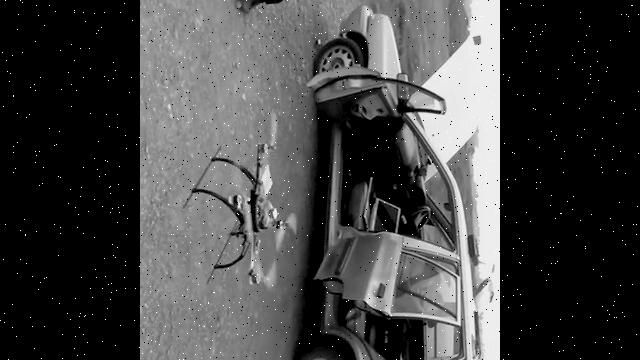drone: (182, 108, 300, 303)
